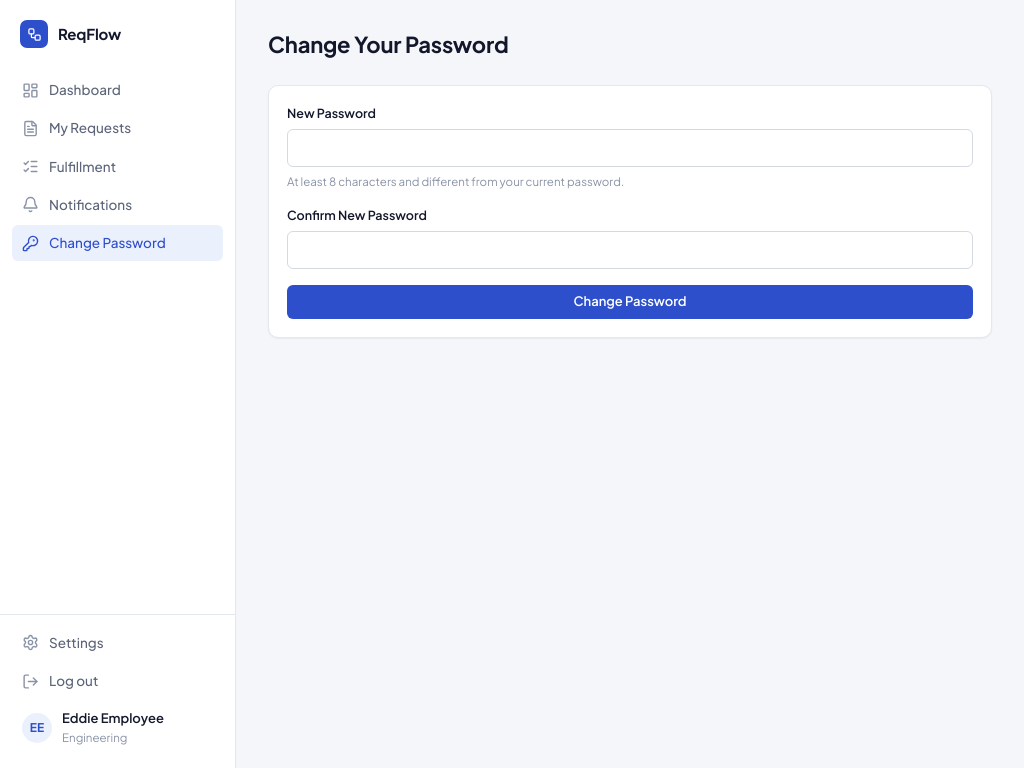
Test case: forced password change › shows a backend error without leaving the page
The width and height of the screenshot is (1024, 768).
Type "new-password-123" into the password field labelled "New Password". click: [630, 148]
box: [287,129,973,167]
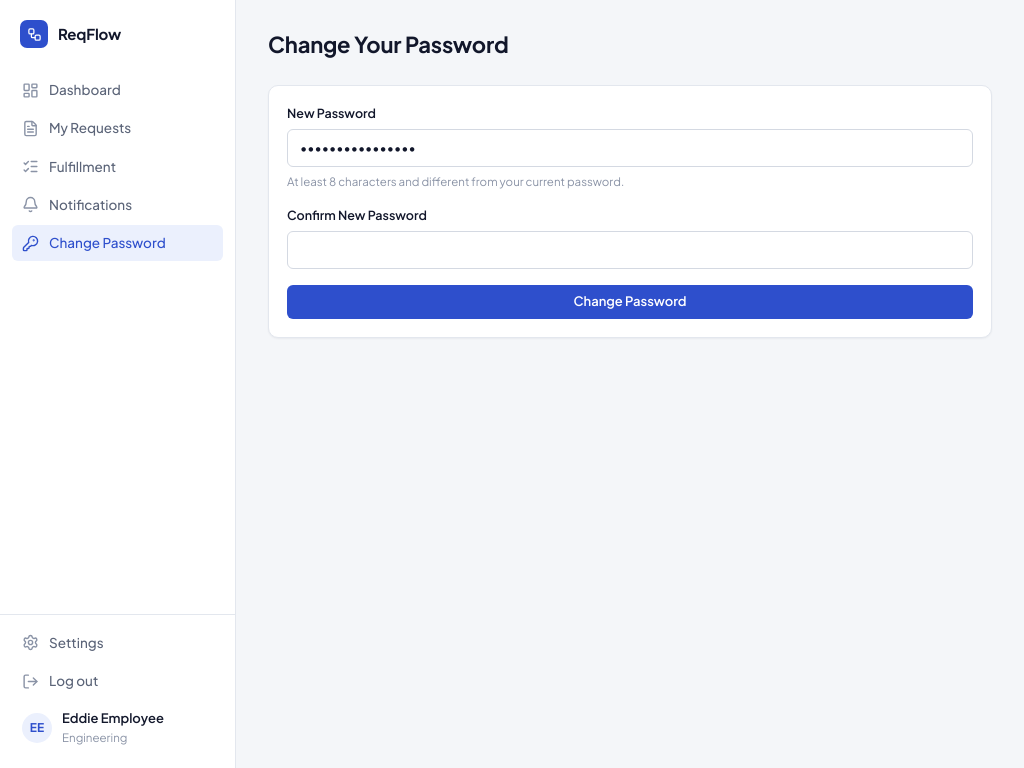
Type "new-password-123" into the password field labelled "Confirm New Password". click: [630, 250]
box: [287,231,973,269]
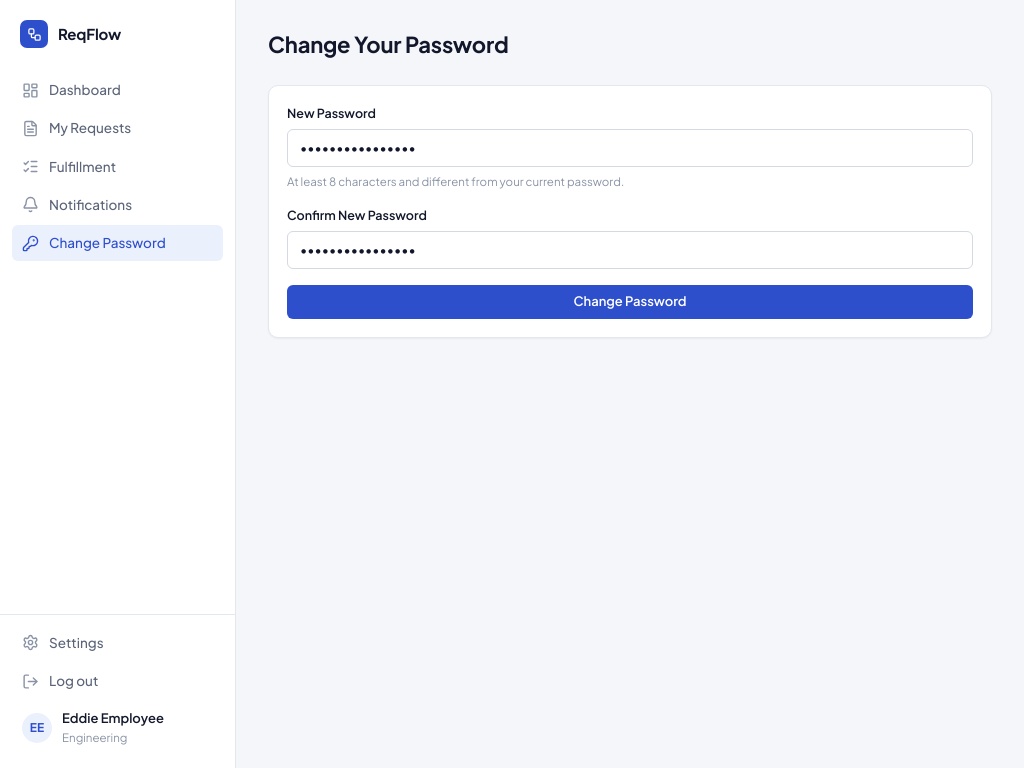
Click the button "Change Password". click: [630, 302]
box: [287,285,973,319]
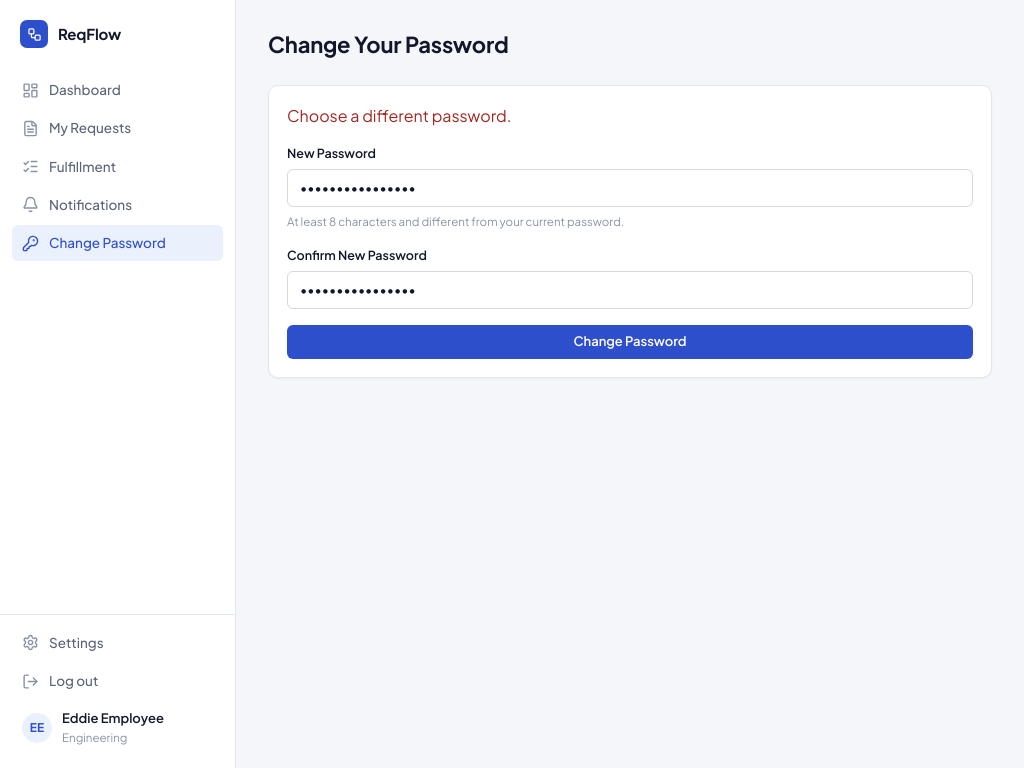
Result: the text "Choose a different password." is shown at [287,105,511,126]
